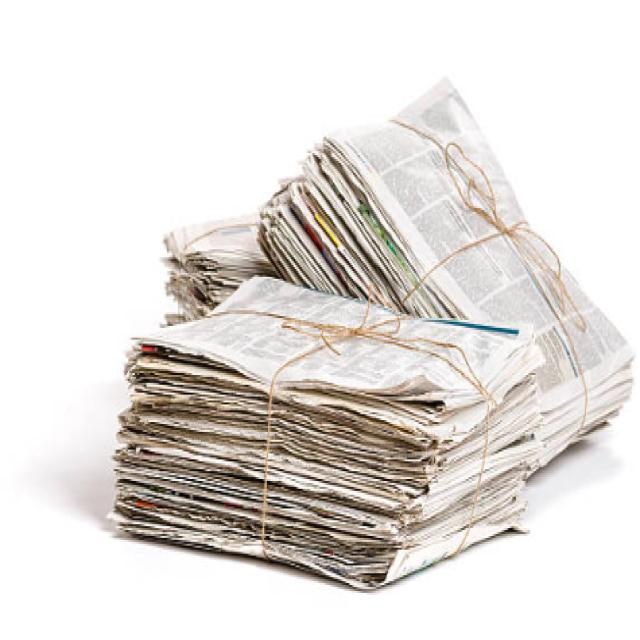Koran: (106, 73, 634, 591)
